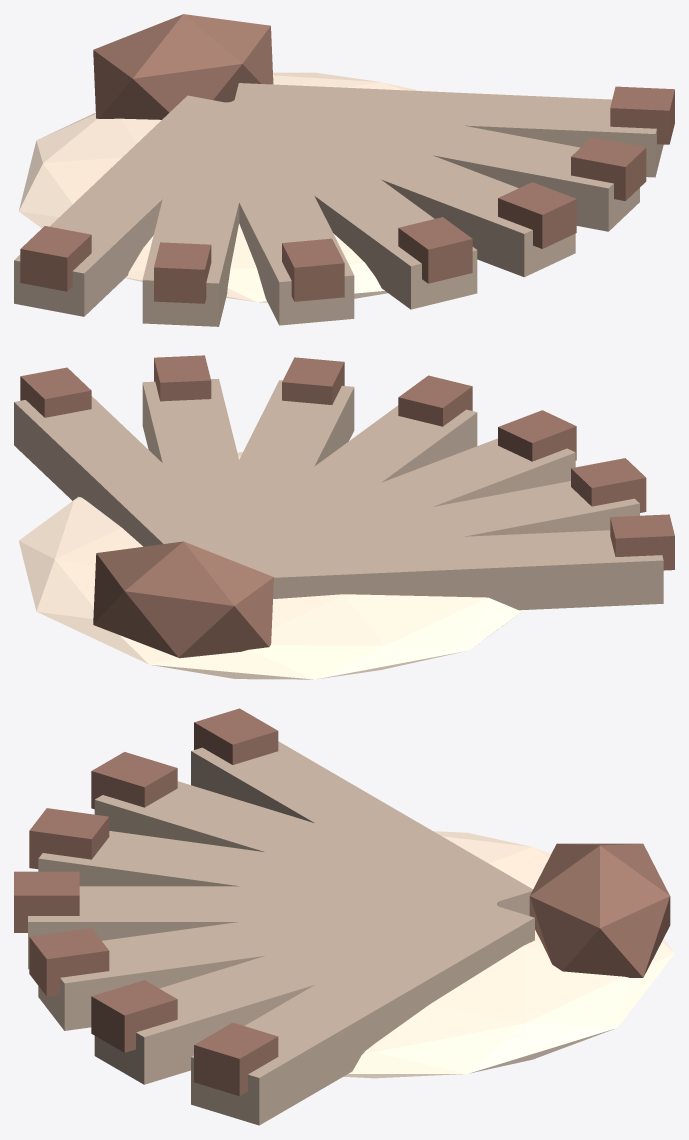
The model's file is env_shell_scallop.glb.
3 renders of one model, top to bottom at view 1: azimuth 30°, elevation 25°; view 2: azimuth 150°, elevation 25°; view 3: azimuth 270°, elevation 25°, orthographic. The views are drawn at different scales.
Visible parts, largest first — view 1: env_shell_scallop; view 2: env_shell_scallop; view 3: env_shell_scallop.
Boxes of the visible parts, bbox=[...] form: env_shell_scallop: bbox=[14, 14, 674, 326]; env_shell_scallop: bbox=[14, 355, 674, 679]; env_shell_scallop: bbox=[14, 708, 674, 1125].
Size of the model in its own units: 0.4424 by 0.0827 by 0.3525.
